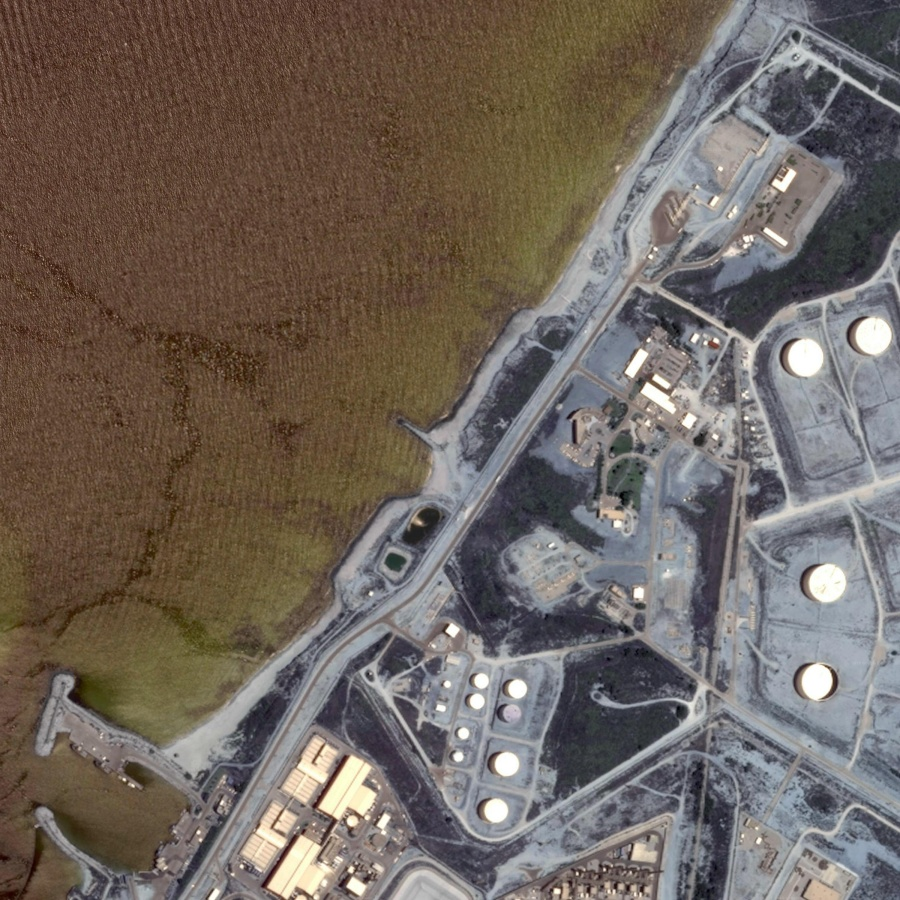PowerPlant: (368, 622, 600, 836)
